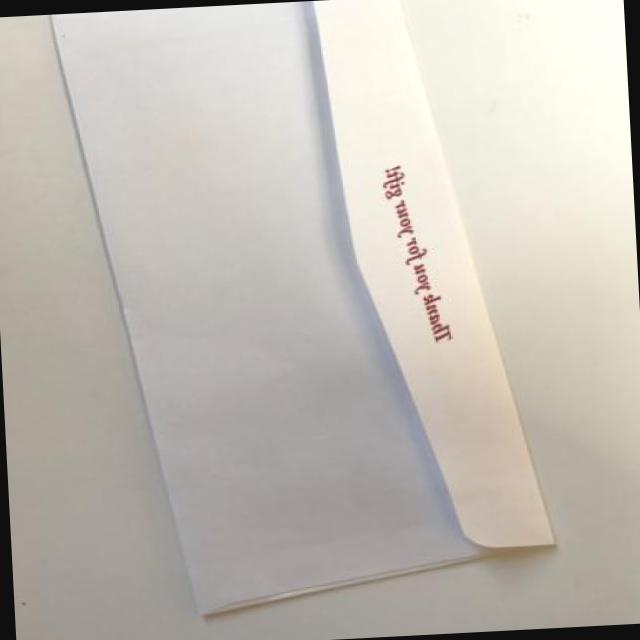paper: (58, 0, 547, 640)
